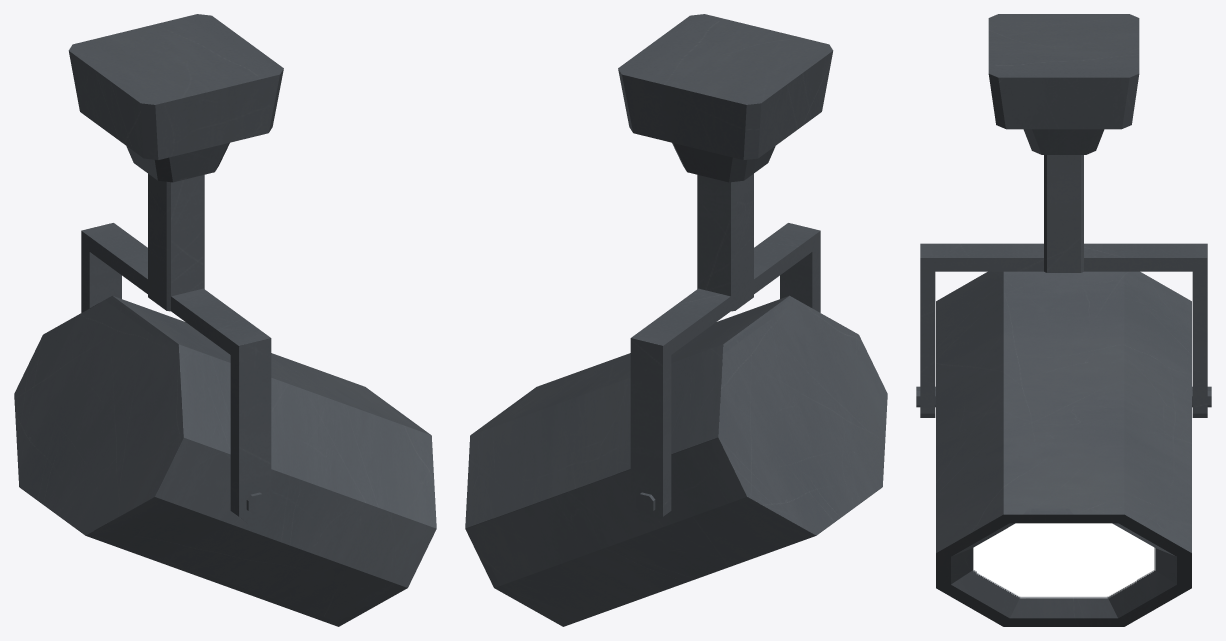
The model's file is spotlight.glb.
3 renders of one model, left to right at view 1: azimuth 30°, elevation 25°; view 2: azimuth 150°, elevation 25°; view 3: azimuth 270°, elevation 25°, orthographic. The views are drawn at different scales.
Visible parts, largest first — view 1: Spotlight.001, Spotlight; view 2: Spotlight.001, Spotlight; view 3: Spotlight.001, Spotlight.
Boxes of the visible parts, x1,y1,x2,y2 form: Spotlight.001: (14,295,436,626); Spotlight: (68,14,283,523); Spotlight.001: (465,295,887,626); Spotlight: (618,14,833,523); Spotlight.001: (936,271,1191,626); Spotlight: (916,14,1211,417).
Bounding box in the file's own units: 0.2417 × 0.3833 × 0.196.
Materials: 1 (1 with a texture image).
